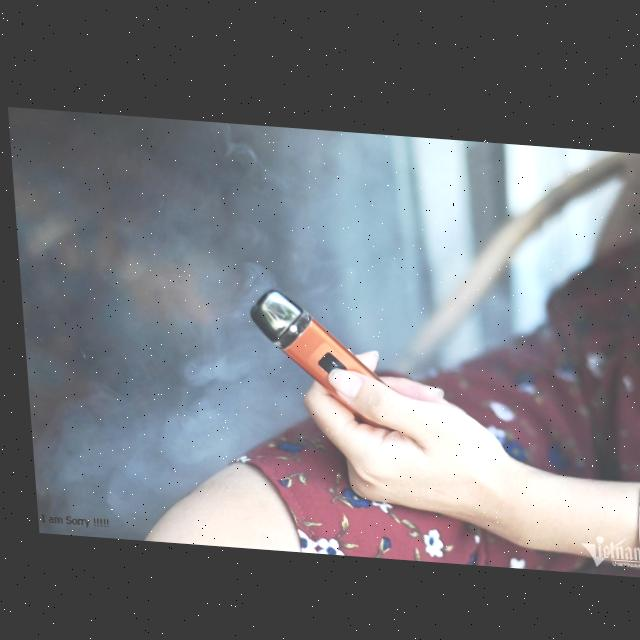vape: (242, 282, 391, 423)
